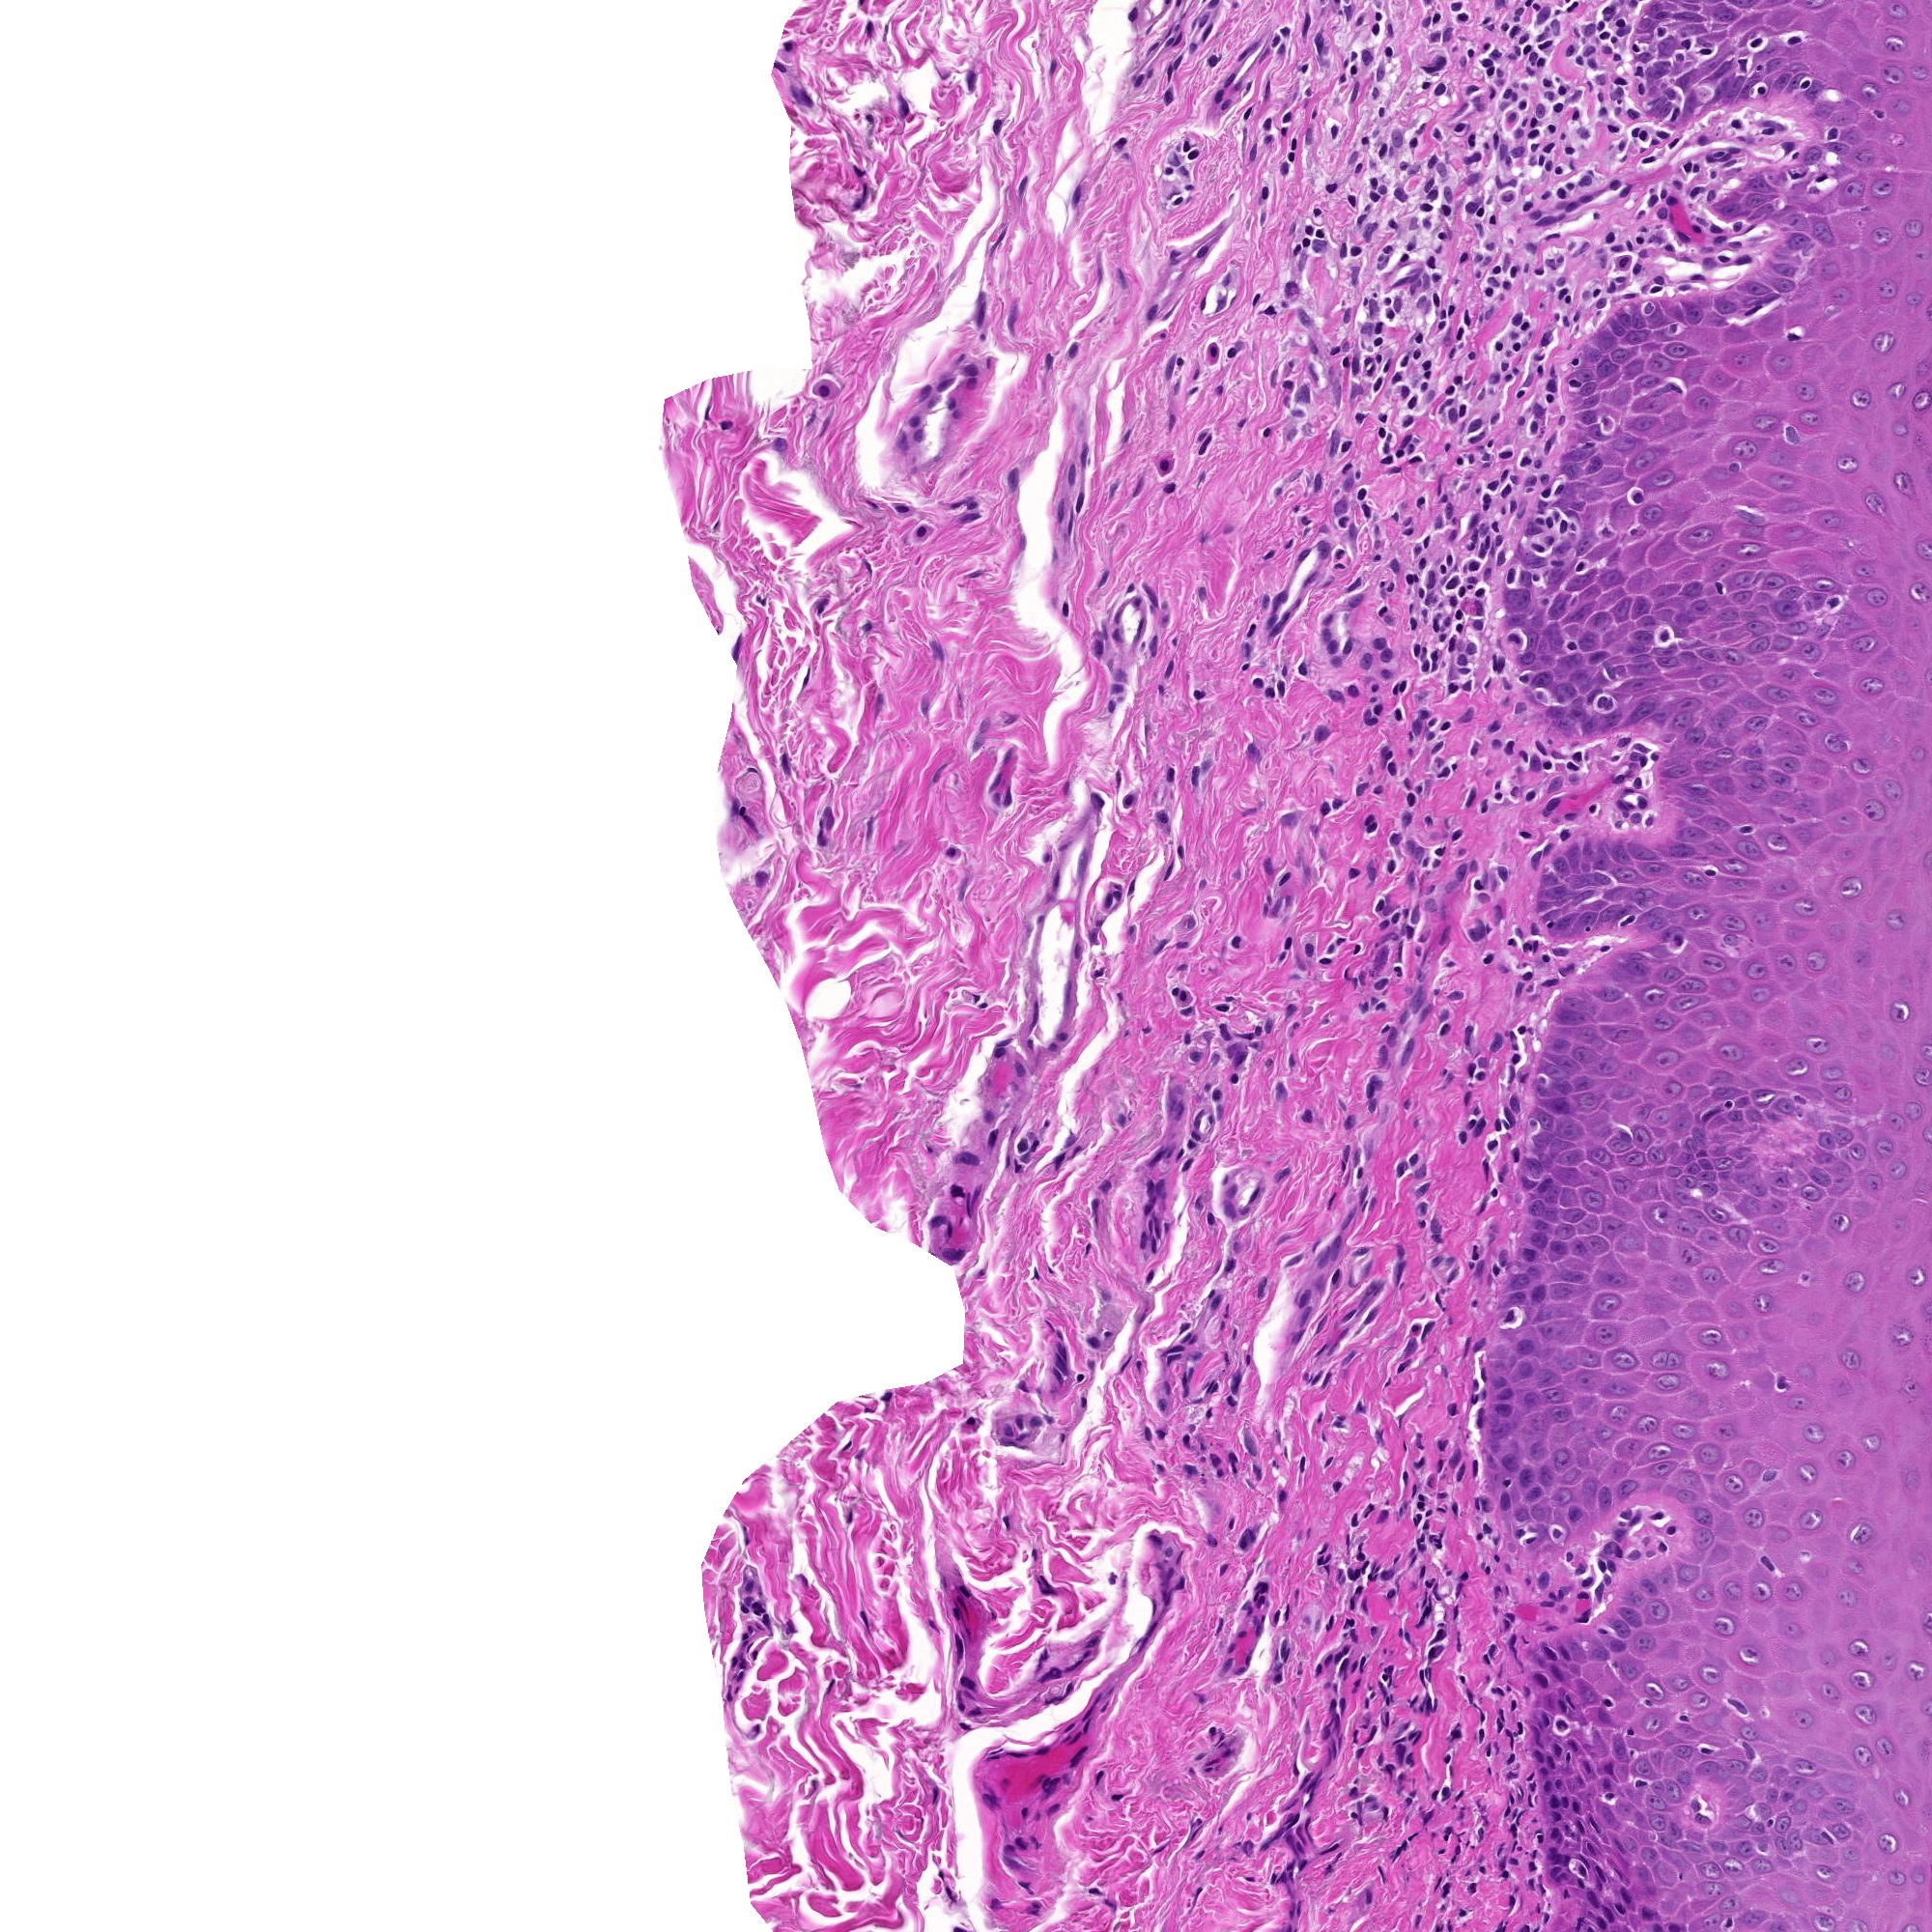epithelial: (863, 685, 895, 717), (920, 759, 952, 791), (1274, 271, 1306, 303), (1067, 846, 1099, 878), (1161, 1090, 1192, 1122), (1053, 978, 1085, 1010), (1276, 1805, 1307, 1836), (1782, 225, 1813, 257), (1560, 366, 1592, 398), (1819, 127, 1851, 159), (1727, 73, 1759, 104), (1652, 80, 1684, 111), (1660, 97, 1691, 129), (1591, 324, 1622, 356), (1656, 372, 1688, 403), (1780, 214, 1812, 246), (1619, 320, 1651, 352), (1736, 281, 1767, 313), (1734, 65, 1766, 97), (1757, 48, 1789, 80), (1852, 80, 1884, 111), (1741, 57, 1773, 88), (1709, 50, 1741, 81), (1741, 37, 1773, 69), (1624, 591, 1656, 623), (1555, 644, 1587, 676), (1539, 697, 1571, 729), (1560, 697, 1592, 729), (1566, 564, 1598, 596), (1821, 725, 1852, 757), (1651, 637, 1683, 669), (1684, 591, 1716, 623), (1571, 904, 1603, 936), (1672, 688, 1704, 720), (1568, 529, 1599, 561), (1631, 692, 1663, 724), (1847, 747, 1879, 778), (1762, 678, 1794, 709), (1739, 768, 1771, 800), (1545, 533, 1576, 564), (1647, 533, 1679, 564), (1545, 702, 1576, 734), (1803, 579, 1835, 610), (1582, 863, 1614, 895), (1856, 796, 1888, 828), (1767, 870, 1799, 902), (1619, 669, 1651, 701), (1541, 860, 1573, 892), (1541, 575, 1573, 607), (1614, 591, 1645, 623), (1568, 701, 1599, 732), (1714, 916, 1746, 948), (1522, 1223, 1553, 1254), (1502, 1281, 1534, 1313), (1490, 1378, 1522, 1410), (1559, 1200, 1591, 1231), (1557, 1141, 1589, 1173), (1702, 1200, 1734, 1231), (1525, 1212, 1557, 1244), (1693, 1171, 1725, 1203), (1530, 1315, 1562, 1346), (1725, 1139, 1757, 1171), (1537, 1380, 1569, 1412), (1652, 959, 1684, 991), (1509, 1261, 1541, 1293), (1541, 1842, 1573, 1874), (1509, 1461, 1541, 1493), (1610, 1881, 1642, 1913), (1493, 1445, 1525, 1477), (1537, 1638, 1569, 1670), (1592, 1752, 1624, 1783), (1541, 1859, 1573, 1891), (1566, 1859, 1598, 1891), (1539, 1812, 1571, 1844), (1601, 1629, 1633, 1661), (1523, 1821, 1555, 1852), (1633, 1569, 1665, 1601), (1541, 1776, 1573, 1808), (1522, 1718, 1553, 1750), (1548, 1854, 1580, 1886), (1569, 1675, 1601, 1707), (1571, 1752, 1603, 1783), (1514, 1769, 1546, 1801), (1545, 1444, 1576, 1476), (1548, 1867, 1580, 1898), (1555, 1849, 1587, 1881), (1534, 1780, 1566, 1812), (1824, 1815, 1856, 1847), (1587, 1628, 1619, 1660), (1667, 1762, 1698, 1794), (1536, 1727, 1568, 1759), (1734, 1730, 1766, 1762), (1844, 1635, 1875, 1667), (1541, 545, 1571, 579), (1536, 1847, 1566, 1881), (1525, 1844, 1559, 1874), (763, 428, 794, 458), (886, 426, 918, 456), (929, 366, 959, 398), (835, 242, 865, 274), (731, 1520, 761, 1552), (1288, 379, 1318, 410), (996, 303, 1026, 334), (1106, 262, 1138, 292), (1366, 941, 1398, 971), (1421, 1215, 1451, 1247), (1288, 1283, 1318, 1315), (975, 1783, 1007, 1813), (1279, 1895, 1309, 1927), (1352, 1881, 1384, 1911), (1675, 297, 1707, 327), (1642, 57, 1674, 87), (1668, 67, 1700, 97), (1794, 73, 1826, 103), (1709, 290, 1739, 322), (1739, 290, 1771, 320), (1557, 442, 1587, 474), (1709, 74, 1739, 106), (1798, 140, 1828, 172), (1686, 386, 1718, 416), (1769, 255, 1799, 287), (1752, 281, 1782, 313), (1640, 301, 1672, 331), (1783, 67, 1813, 99), (1776, 418, 1808, 448), (1668, 0, 1698, 32), (1626, 409, 1658, 439), (1847, 382, 1879, 412), (1720, 67, 1750, 99), (1833, 175, 1865, 205), (1621, 306, 1651, 338), (1718, 449, 1748, 481), (1606, 340, 1637, 372), (1571, 435, 1603, 465), (1874, 58, 1905, 88), (1720, 318, 1752, 349), (1575, 391, 1605, 423), (1704, 364, 1736, 395), (1661, 922, 1693, 952), (1589, 686, 1619, 718), (1520, 545, 1550, 577), (1665, 835, 1697, 865), (1573, 708, 1603, 740), (1635, 501, 1667, 531), (1541, 559, 1571, 591), (1571, 625, 1601, 656), (1626, 621, 1658, 651), (1603, 897, 1635, 927), (1511, 642, 1541, 674), (1596, 702, 1626, 734), (1545, 908, 1575, 939), (1511, 561, 1541, 593), (1736, 506, 1767, 536), (1468, 531, 1500, 561), (1741, 708, 1773, 738), (1769, 593, 1801, 623), (1706, 704, 1736, 736), (1693, 858, 1725, 888), (1543, 878, 1575, 908), (1681, 777, 1713, 807), (1603, 837, 1633, 869), (1762, 823, 1794, 853), (1739, 736, 1769, 768), (1773, 748, 1803, 780), (1794, 633, 1824, 665), (1695, 639, 1725, 671), (1766, 763, 1798, 793), (1536, 867, 1566, 899), (1585, 846, 1615, 878), (1704, 807, 1734, 839), (1651, 575, 1681, 607), (1550, 676, 1582, 706), (1559, 492, 1589, 524), (1737, 752, 1769, 782), (1707, 770, 1739, 800), (1790, 817, 1821, 849), (1619, 839, 1651, 869), (1681, 518, 1713, 548), (1605, 594, 1637, 625), (1713, 600, 1743, 632), (1635, 846, 1665, 878), (1598, 878, 1628, 909), (1789, 789, 1819, 821), (1640, 853, 1672, 883), (1727, 580, 1759, 610), (1683, 895, 1713, 927), (1633, 605, 1663, 637), (1626, 649, 1656, 681), (1716, 642, 1746, 674), (1541, 602, 1571, 633), (1706, 550, 1737, 580), (1592, 899, 1624, 929), (1672, 602, 1704, 632), (1522, 1277, 1553, 1307), (1514, 1237, 1545, 1269), (1545, 1090, 1575, 1122), (1695, 1099, 1725, 1131), (1520, 1148, 1550, 1180), (1488, 1392, 1518, 1424), (1543, 1231, 1573, 1263), (1504, 1267, 1534, 1299), (1592, 978, 1622, 1010), (1550, 996, 1580, 1028), (1882, 998, 1914, 1028), (1803, 1161, 1833, 1192), (1465, 1403, 1495, 1435), (1812, 1127, 1842, 1159), (1720, 1100, 1752, 1131), (1744, 1077, 1776, 1108), (1564, 1231, 1594, 1263), (1509, 1355, 1541, 1385), (1545, 1030, 1575, 1062), (1644, 1007, 1675, 1037), (1767, 1092, 1799, 1122), (1514, 1384, 1545, 1415), (1568, 1067, 1598, 1099), (1721, 1219, 1752, 1251), (1518, 1169, 1550, 1200), (1546, 1072, 1578, 1102), (1672, 1242, 1704, 1272), (1635, 982, 1665, 1014), (1530, 1362, 1562, 1392), (1522, 1192, 1553, 1223), (1529, 1104, 1560, 1134), (1483, 1417, 1514, 1447), (1527, 1125, 1557, 1157), (1674, 970, 1704, 1001), (1654, 1074, 1686, 1104), (1706, 1077, 1736, 1109), (1647, 1198, 1677, 1230), (1654, 1343, 1686, 1373), (1679, 1125, 1709, 1157), (1695, 1263, 1727, 1293), (1836, 1343, 1868, 1373), (1543, 1079, 1573, 1111), (1709, 1415, 1741, 1445), (1644, 1042, 1675, 1072), (1626, 1109, 1656, 1141), (1642, 1139, 1672, 1171), (1835, 1269, 1867, 1299), (1752, 1288, 1783, 1318), (1665, 1108, 1697, 1138), (1525, 1074, 1557, 1104), (1553, 1115, 1583, 1146), (1603, 1343, 1635, 1373), (1552, 1159, 1583, 1189), (1550, 1789, 1582, 1819), (1539, 1822, 1569, 1854), (1548, 1688, 1578, 1720), (1559, 1790, 1591, 1821), (1605, 1891, 1637, 1921), (1583, 1858, 1615, 1888), (1592, 1897, 1624, 1927), (1490, 1484, 1520, 1516), (1525, 1665, 1557, 1695), (1541, 1734, 1571, 1766), (1603, 1734, 1635, 1764), (1541, 1658, 1573, 1688), (1559, 1729, 1589, 1760), (1591, 1769, 1622, 1799), (1548, 1637, 1580, 1667), (1589, 1483, 1621, 1513), (1610, 1472, 1640, 1504), (1688, 1502, 1718, 1534), (1465, 1488, 1497, 1518), (1585, 1637, 1615, 1668), (1529, 1458, 1560, 1488), (1575, 1833, 1606, 1863), (1525, 1739, 1555, 1771), (1847, 1520, 1877, 1552), (1589, 1697, 1619, 1729), (1808, 1821, 1838, 1852), (1614, 1601, 1645, 1631), (1658, 1815, 1690, 1845), (1629, 1626, 1660, 1658), (1527, 1651, 1557, 1683), (1589, 1891, 1619, 1923), (1490, 1467, 1522, 1497), (1767, 1780, 1799, 1810), (1844, 1667, 1875, 1697), (1559, 1803, 1589, 1835), (1529, 1748, 1559, 1780), (1543, 1720, 1573, 1752), (1591, 1798, 1622, 1828), (1506, 1499, 1537, 1529), (1645, 1451, 1677, 1481), (1610, 1610, 1640, 1642), (1523, 1729, 1555, 1759), (1536, 1836, 1566, 1868), (1537, 1750, 1569, 1780), (1668, 1736, 1698, 1767), (1693, 1752, 1725, 1782), (1571, 1898, 1601, 1930), (1642, 1594, 1672, 1626), (1668, 1559, 1698, 1591), (1536, 1651, 1568, 1681), (1736, 1635, 1767, 1665), (1744, 1759, 1775, 1790), (1571, 1875, 1603, 1905), (939, 393, 970, 423), (922, 635, 952, 665), (855, 812, 885, 842), (909, 692, 939, 722), (853, 550, 883, 580), (816, 1670, 846, 1700), (1155, 405, 1185, 435), (1274, 803, 1304, 833), (1157, 1339, 1187, 1369), (1403, 985, 1433, 1016), (993, 1417, 1023, 1447), (1005, 1054, 1035, 1085), (1180, 1812, 1210, 1842), (1780, 25, 1810, 55), (1743, 170, 1773, 200), (1610, 306, 1640, 336), (1714, 195, 1744, 225), (1580, 448, 1610, 478), (1706, 57, 1736, 87), (1647, 92, 1677, 122), (1767, 65, 1798, 96), (1591, 352, 1621, 382), (1573, 402, 1603, 432), (1603, 311, 1633, 341), (1739, 272, 1769, 303), (1651, 32, 1681, 62), (1555, 455, 1585, 485), (1667, 334, 1697, 364), (1675, 87, 1706, 117), (1667, 299, 1697, 329), (1633, 12, 1663, 42), (1767, 269, 1798, 299), (1644, 2, 1674, 32), (1778, 322, 1808, 352), (1713, 0, 1743, 30), (1629, 41, 1660, 71), (1789, 375, 1819, 405), (1877, 32, 1907, 62), (1865, 218, 1895, 248), (1582, 416, 1612, 446), (1635, 366, 1665, 396), (1573, 373, 1603, 403), (1619, 352, 1649, 382), (1890, 464, 1920, 494), (1847, 142, 1877, 172), (1525, 665, 1555, 695), (1543, 591, 1573, 621), (1677, 575, 1707, 605), (1583, 603, 1614, 633), (1506, 582, 1536, 612), (1679, 722, 1709, 752), (1564, 598, 1594, 628), (1624, 699, 1654, 729), (1548, 849, 1578, 879), (1598, 563, 1628, 593), (1500, 605, 1530, 635), (1730, 814, 1760, 844), (1520, 511, 1550, 541), (1612, 902, 1642, 932), (1626, 881, 1656, 911), (1603, 494, 1633, 524), (1776, 577, 1806, 607), (1619, 943, 1649, 973), (1621, 633, 1651, 663), (1675, 817, 1706, 847), (1559, 837, 1589, 867), (1775, 658, 1805, 688), (1564, 660, 1594, 690), (1539, 623, 1569, 653), (1691, 750, 1721, 780), (1736, 835, 1766, 865), (1737, 609, 1767, 639), (1743, 630, 1773, 660), (1504, 564, 1534, 594), (1667, 607, 1697, 637), (1527, 499, 1557, 529), (1638, 902, 1668, 932), (1555, 908, 1585, 938), (1716, 908, 1746, 938), (1509, 1330, 1539, 1361), (1530, 1169, 1560, 1200), (1766, 1164, 1796, 1194), (1608, 1122, 1638, 1152), (1596, 1263, 1626, 1293), (1822, 1205, 1852, 1235), (1545, 1399, 1575, 1430), (1559, 1261, 1589, 1292), (1598, 1212, 1628, 1242), (1711, 1085, 1741, 1115), (1606, 1168, 1637, 1198), (1582, 1139, 1612, 1169), (1697, 1323, 1727, 1353), (1484, 1368, 1514, 1398), (1605, 1017, 1635, 1047), (1706, 1063, 1736, 1093), (1569, 1364, 1599, 1394), (1629, 1095, 1660, 1125), (1592, 1318, 1622, 1348), (1782, 1047, 1812, 1077), (1619, 1122, 1649, 1152), (1674, 1017, 1704, 1047), (1578, 1182, 1608, 1212), (1548, 1276, 1578, 1306), (1598, 1373, 1628, 1403), (1557, 1003, 1587, 1033), (1760, 1191, 1790, 1221), (1576, 1882, 1606, 1913), (1559, 1499, 1589, 1529), (1520, 1477, 1550, 1507), (1631, 1898, 1661, 1928), (1534, 1771, 1564, 1801), (1541, 1796, 1571, 1826), (1534, 1743, 1564, 1773), (1527, 1707, 1557, 1737), (1564, 1812, 1594, 1842), (1578, 1808, 1608, 1838), (1729, 1833, 1759, 1863), (1603, 1619, 1633, 1649), (1529, 1642, 1559, 1672), (1706, 1612, 1736, 1642), (1614, 1654, 1644, 1684), (1564, 1868, 1594, 1898), (1534, 1633, 1564, 1663), (1569, 1851, 1599, 1881), (1518, 1458, 1548, 1488), (1635, 1840, 1665, 1870), (1605, 1831, 1635, 1861), (1552, 1737, 1582, 1767), (1737, 1500, 1767, 1530), (1752, 1548, 1782, 1578), (1629, 1753, 1660, 1783), (1872, 1734, 1902, 1764), (1753, 1461, 1783, 1491), (1628, 1859, 1658, 1890), (1587, 1902, 1617, 1932), (1637, 1679, 1667, 1709), (1826, 1790, 1856, 1821), (1704, 1831, 1734, 1861), (1557, 1874, 1587, 1904), (747, 862, 775, 893), (1642, 349, 1674, 377), (1566, 538, 1594, 570), (1576, 835, 1605, 867), (1589, 1051, 1621, 1079), (1859, 1168, 1888, 1200), (1539, 1787, 1571, 1815), (1534, 1755, 1562, 1787), (1744, 1812, 1773, 1844), (1513, 1472, 1545, 1500), (1237, 736, 1267, 764), (1870, 170, 1898, 200), (1808, 216, 1836, 246), (1582, 642, 1612, 671), (1598, 656, 1626, 686), (1576, 681, 1605, 711), (1757, 568, 1787, 596), (1658, 757, 1688, 786)
fibroblast and endothelial: (1410, 646, 1442, 679), (1353, 702, 1387, 734), (1189, 1040, 1223, 1072), (1293, 1771, 1325, 1805), (1302, 1851, 1336, 1882), (1017, 1537, 1051, 1569), (763, 50, 794, 81), (855, 103, 886, 134), (837, 188, 869, 219), (768, 41, 800, 73), (918, 373, 950, 405), (906, 517, 938, 548), (939, 488, 971, 520), (936, 835, 968, 867), (920, 1205, 952, 1237), (729, 1621, 761, 1652), (833, 1500, 865, 1532), (736, 1612, 768, 1644), (1300, 216, 1332, 248), (1231, 97, 1263, 129), (1269, 150, 1300, 182), (1290, 7, 1322, 39), (1267, 18, 1299, 50), (1189, 426, 1221, 458), (1392, 426, 1424, 458), (1263, 27, 1295, 58), (1276, 140, 1307, 172), (1389, 343, 1421, 375), (1384, 177, 1415, 209), (1392, 405, 1424, 437), (1421, 48, 1453, 80), (1419, 19, 1451, 51), (1373, 14, 1405, 46), (1007, 168, 1039, 200), (1168, 27, 1200, 58), (1201, 288, 1233, 320), (1037, 50, 1069, 81), (1346, 203, 1378, 235), (1364, 57, 1396, 88), (1253, 122, 1284, 154), (1419, 117, 1451, 149), (1187, 7, 1219, 39), (1237, 138, 1269, 170), (1184, 25, 1215, 57), (1054, 458, 1086, 490), (1410, 265, 1442, 297), (1353, 403, 1385, 435), (964, 285, 996, 317), (1237, 34, 1269, 65), (1203, 373, 1235, 405), (1339, 253, 1371, 285), (1338, 39, 1369, 71), (1394, 563, 1426, 594), (1355, 810, 1387, 842), (1286, 653, 1318, 685), (1258, 584, 1290, 616), (1384, 671, 1415, 702), (1338, 856, 1369, 888), (1339, 573, 1371, 605), (1380, 823, 1412, 855), (1306, 718, 1338, 750), (1318, 536, 1350, 568), (1111, 872, 1143, 904), (1164, 835, 1196, 867), (1152, 855, 1184, 886), (1346, 479, 1378, 511), (1415, 706, 1447, 738), (1401, 801, 1433, 833), (1231, 630, 1263, 662), (1138, 628, 1169, 660), (1380, 681, 1412, 713), (1325, 490, 1357, 522), (1373, 545, 1405, 577), (1401, 628, 1433, 660), (1387, 506, 1419, 538), (1293, 563, 1325, 594), (1371, 571, 1403, 603), (1311, 623, 1343, 655), (1357, 685, 1389, 717), (1403, 773, 1435, 805), (1141, 605, 1173, 637), (1346, 628, 1378, 660), (1000, 1150, 1031, 1182), (1208, 1016, 1240, 1047), (1169, 1364, 1201, 1396), (1353, 991, 1385, 1023), (1077, 1325, 1109, 1357), (1017, 1405, 1049, 1437), (1143, 1139, 1175, 1171), (975, 1109, 1007, 1141), (1152, 1138, 1184, 1169), (1198, 1283, 1230, 1315), (1046, 1339, 1077, 1371), (1306, 1362, 1338, 1394), (1132, 1191, 1164, 1223), (1169, 1311, 1201, 1343), (1116, 1348, 1148, 1380), (1384, 1253, 1415, 1284), (1221, 1039, 1253, 1070), (1247, 1012, 1279, 1044), (1171, 994, 1203, 1026), (1332, 1106, 1364, 1138), (1373, 1016, 1405, 1047), (1005, 1127, 1037, 1159), (1058, 1131, 1090, 1162), (1246, 1272, 1277, 1304), (1001, 1139, 1033, 1171), (1021, 1258, 1053, 1290), (1224, 1194, 1256, 1226), (1339, 962, 1371, 994), (1350, 1180, 1382, 1212), (1180, 1339, 1212, 1371), (1359, 1067, 1391, 1099), (1346, 1235, 1378, 1267), (1138, 1230, 1169, 1261), (1214, 1194, 1246, 1226), (1180, 1118, 1212, 1150), (1162, 1132, 1194, 1164), (1168, 1332, 1200, 1364), (1288, 1293, 1320, 1325), (1175, 1138, 1207, 1169), (1223, 1051, 1254, 1083), (1067, 1371, 1099, 1403), (1035, 1658, 1067, 1690), (1415, 1637, 1447, 1668), (1062, 1741, 1093, 1773), (1215, 1442, 1247, 1474), (1403, 1445, 1435, 1477), (1231, 1523, 1263, 1555), (1263, 1599, 1295, 1631), (1338, 1776, 1369, 1808), (1371, 1656, 1403, 1688), (1316, 1645, 1348, 1677), (1403, 1495, 1435, 1527), (1039, 1683, 1070, 1714), (1035, 1767, 1067, 1799), (1031, 1775, 1063, 1806), (1343, 1736, 1375, 1767), (1286, 1447, 1318, 1479), (1143, 1453, 1175, 1484), (1338, 1619, 1369, 1651), (1329, 1651, 1361, 1683), (1355, 1785, 1387, 1817), (978, 1739, 1010, 1771), (1339, 1790, 1371, 1822), (1127, 1624, 1159, 1656), (991, 1506, 1023, 1537), (1353, 1550, 1385, 1582), (1097, 1562, 1129, 1594), (1226, 1651, 1258, 1683), (1392, 1783, 1424, 1815), (1419, 1778, 1451, 1810), (1069, 1640, 1100, 1672), (1000, 1844, 1031, 1875), (1019, 1826, 1051, 1858), (1288, 1787, 1320, 1819), (1031, 1670, 1063, 1702), (1401, 1474, 1433, 1506), (1286, 1810, 1318, 1842), (1332, 1557, 1364, 1589), (1332, 1626, 1364, 1658), (1366, 1744, 1398, 1776), (1311, 1716, 1343, 1748), (1277, 1851, 1309, 1882), (1224, 1635, 1256, 1667), (1152, 1552, 1184, 1583), (1380, 1495, 1412, 1527), (1399, 1463, 1431, 1495), (1316, 1736, 1348, 1767), (1518, 106, 1550, 138), (1476, 44, 1507, 76), (1654, 184, 1686, 216), (1633, 143, 1665, 175), (1495, 14, 1527, 46), (1587, 14, 1619, 46), (1667, 221, 1698, 253), (1674, 150, 1706, 182), (1555, 189, 1587, 221), (1527, 34, 1559, 65), (1594, 223, 1626, 255), (1442, 396, 1474, 428), (1654, 124, 1686, 156), (1605, 9, 1637, 41), (1527, 23, 1559, 55), (1647, 198, 1679, 230), (1686, 212, 1718, 244), (1596, 39, 1628, 71), (1601, 232, 1633, 264), (1530, 149, 1562, 180), (1541, 133, 1573, 165), (1479, 124, 1511, 156), (1713, 138, 1744, 170), (1456, 166, 1488, 198), (1493, 78, 1525, 110), (1537, 78, 1569, 110), (1598, 166, 1629, 198), (1603, 74, 1635, 106), (1537, 246, 1569, 278), (1454, 442, 1486, 474), (1477, 464, 1509, 495), (1477, 442, 1509, 474), (1555, 170, 1587, 202), (1780, 159, 1812, 191), (1557, 303, 1589, 334), (1610, 258, 1642, 290), (1633, 119, 1665, 150), (1548, 157, 1580, 189), (1472, 297, 1504, 329), (1580, 58, 1612, 90), (1472, 165, 1504, 196), (1695, 145, 1727, 177), (1536, 789, 1568, 821), (1454, 782, 1486, 814), (1437, 584, 1468, 616), (1560, 741, 1592, 773), (1621, 768, 1652, 800), (1518, 747, 1550, 778), (1447, 853, 1479, 885), (1626, 786, 1658, 817), (1514, 780, 1546, 812), (1463, 593, 1495, 625), (1463, 916, 1495, 948), (1539, 775, 1571, 807), (1437, 568, 1468, 600), (1437, 628, 1468, 660), (1461, 520, 1493, 552), (1456, 529, 1488, 561), (1465, 667, 1497, 699), (1619, 752, 1651, 784), (1456, 849, 1488, 881), (1624, 777, 1656, 809), (1463, 541, 1495, 573), (1445, 1120, 1477, 1152), (1453, 1016, 1484, 1047), (1461, 1056, 1493, 1088), (1451, 1081, 1483, 1113), (1766, 1368, 1798, 1399), (1461, 1329, 1493, 1361), (1493, 1093, 1525, 1125), (1502, 1054, 1534, 1086), (1454, 1067, 1486, 1099), (1440, 1718, 1472, 1750), (1568, 1601, 1599, 1633), (1488, 1856, 1520, 1888), (1495, 1626, 1527, 1658), (1497, 1844, 1529, 1875), (1601, 1536, 1633, 1568), (1474, 1734, 1506, 1766), (1603, 1523, 1635, 1555), (1465, 1852, 1497, 1884), (1493, 1603, 1525, 1635), (1518, 1870, 1550, 1902), (1449, 1447, 1481, 1479), (1610, 1509, 1642, 1541), (1484, 1633, 1516, 1665), (1598, 1548, 1629, 1580), (771, 1612, 805, 1642), (1125, 62, 1155, 96), (1154, 62, 1184, 96), (1371, 428, 1401, 462), (1339, 356, 1369, 389), (1364, 855, 1398, 885), (1410, 713, 1440, 747), (1364, 968, 1398, 998), (1343, 1392, 1376, 1422), (1330, 1233, 1364, 1263), (1343, 1649, 1376, 1679), (1536, 359, 1566, 393), (1493, 777, 1527, 807), (1479, 1028, 1513, 1058), (855, 12, 885, 44), (888, 94, 920, 124), (844, 156, 874, 188), (789, 81, 819, 113), (773, 30, 803, 62), (809, 373, 839, 405), (901, 409, 931, 441), (909, 375, 941, 405), (800, 405, 832, 435), (724, 794, 754, 826), (886, 492, 916, 524), (734, 805, 764, 837), (720, 633, 752, 663), (807, 823, 837, 855), (791, 663, 821, 695), (812, 801, 844, 832), (858, 490, 888, 522), (747, 584, 777, 616), (807, 810, 839, 840), (931, 1210, 962, 1240), (870, 1382, 902, 1412), (939, 1238, 971, 1269), (938, 1223, 968, 1254), (743, 1594, 775, 1624), (752, 1603, 782, 1635), (722, 1645, 752, 1677), (731, 1591, 763, 1621), (731, 1580, 761, 1612), (722, 1661, 754, 1691), (713, 1681, 745, 1711), (741, 1714, 771, 1746), (925, 1859, 957, 1890), (916, 1608, 947, 1640), (789, 1564, 819, 1596), (844, 1440, 876, 1470), (1212, 336, 1244, 366), (1352, 350, 1382, 382), (1332, 349, 1364, 379), (1173, 133, 1203, 165), (1410, 352, 1442, 382), (1203, 81, 1235, 111), (1293, 228, 1325, 258), (1376, 442, 1408, 472), (1198, 338, 1230, 368), (982, 110, 1012, 142), (1361, 311, 1392, 341), (1362, 368, 1392, 400), (1293, 214, 1325, 244), (1417, 179, 1447, 211), (1401, 444, 1433, 474), (1161, 347, 1192, 377), (1304, 28, 1336, 58), (1419, 2, 1449, 34), (1419, 73, 1451, 103), (1196, 46, 1228, 76), (1152, 81, 1184, 111), (1398, 386, 1428, 418), (1373, 35, 1403, 67), (1191, 16, 1221, 48), (1389, 444, 1421, 474), (1403, 320, 1433, 352), (1284, 232, 1315, 264), (1148, 449, 1180, 479), (1417, 255, 1447, 287), (1350, 42, 1382, 73), (1322, 235, 1353, 265), (1249, 177, 1279, 209), (1394, 437, 1426, 467), (1392, 379, 1422, 410), (1329, 430, 1361, 460), (1318, 115, 1348, 147), (1316, 172, 1346, 203), (1253, 416, 1283, 448), (1369, 175, 1401, 205), (1343, 402, 1375, 432), (1185, 237, 1217, 267), (1159, 25, 1189, 57), (1362, 345, 1394, 375), (1056, 334, 1088, 364), (964, 297, 994, 329), (1302, 202, 1332, 234), (1272, 370, 1304, 400), (1368, 134, 1399, 165), (1155, 152, 1185, 184), (1336, 184, 1368, 214), (1062, 180, 1092, 212), (1230, 37, 1260, 69), (1419, 143, 1449, 175), (1359, 288, 1389, 320), (1320, 334, 1350, 366), (1178, 30, 1208, 62), (1414, 170, 1444, 202), (1159, 241, 1191, 271), (1210, 271, 1240, 303), (1210, 88, 1240, 120), (1288, 51, 1318, 83), (1415, 156, 1447, 186), (1189, 288, 1221, 318), (1302, 464, 1332, 495), (1387, 124, 1417, 156), (996, 462, 1028, 492), (1293, 18, 1325, 48), (1069, 439, 1099, 471), (1339, 76, 1369, 108), (1339, 65, 1369, 97), (1403, 375, 1435, 405), (1391, 150, 1421, 182), (1279, 12, 1311, 42), (1357, 27, 1387, 58), (1154, 352, 1185, 382), (1251, 74, 1283, 104), (1159, 145, 1191, 175), (1330, 301, 1362, 331), (1284, 126, 1316, 156), (1408, 113, 1440, 143), (1223, 71, 1254, 101), (959, 64, 989, 96), (1405, 345, 1437, 375), (984, 223, 1014, 255), (1299, 331, 1329, 363), (1138, 32, 1169, 62), (1260, 676, 1292, 706), (1316, 791, 1348, 821), (1154, 759, 1185, 789), (1419, 642, 1449, 674), (1242, 667, 1274, 697), (1099, 879, 1129, 911), (1235, 614, 1267, 644), (1327, 630, 1359, 660), (1336, 676, 1368, 706), (1376, 699, 1408, 729), (1364, 626, 1394, 658), (1274, 927, 1304, 959), (1049, 593, 1079, 625), (1184, 678, 1214, 709), (1063, 487, 1095, 517), (1366, 888, 1396, 920), (1396, 782, 1426, 814), (1408, 699, 1438, 731), (1180, 759, 1212, 789), (1269, 863, 1300, 893), (1368, 596, 1399, 626), (1405, 485, 1435, 517), (1256, 602, 1286, 633), (1392, 801, 1422, 833), (1398, 609, 1430, 639), (1415, 563, 1447, 593), (991, 782, 1021, 814), (1148, 801, 1178, 833), (1154, 929, 1184, 961), (1412, 607, 1444, 637), (1389, 911, 1421, 941), (1309, 533, 1339, 564), (1382, 550, 1412, 582), (1369, 658, 1401, 688), (1378, 902, 1410, 932), (1136, 582, 1168, 612), (1348, 644, 1380, 674), (1322, 927, 1352, 959), (1391, 699, 1422, 729), (1345, 773, 1376, 803), (1361, 644, 1392, 674), (1253, 540, 1284, 570), (1040, 865, 1072, 895), (1339, 586, 1371, 616), (1421, 609, 1453, 639), (1100, 619, 1132, 649), (1085, 633, 1115, 665), (1421, 729, 1451, 761), (1313, 603, 1343, 635), (1097, 690, 1127, 722), (1412, 579, 1442, 610), (1046, 495, 1076, 527), (1125, 610, 1157, 640), (1154, 653, 1184, 685), (1269, 936, 1299, 968), (1185, 577, 1217, 607), (1359, 775, 1391, 805), (1267, 580, 1297, 612), (1334, 511, 1364, 543), (1102, 669, 1132, 701), (1230, 651, 1261, 681), (1102, 763, 1132, 794), (1359, 672, 1391, 702), (1269, 655, 1299, 686), (1100, 607, 1132, 637), (1166, 929, 1196, 961), (1320, 646, 1352, 676), (1405, 538, 1435, 570), (1270, 876, 1300, 908), (1394, 770, 1424, 801), (1143, 931, 1175, 961), (959, 497, 989, 529), (1115, 573, 1146, 603), (1277, 529, 1307, 561), (1116, 915, 1146, 947), (993, 741, 1024, 771), (1175, 906, 1205, 938), (1053, 508, 1083, 540), (1014, 1131, 1046, 1161), (1168, 982, 1200, 1012), (1355, 1076, 1387, 1106), (1221, 1366, 1251, 1398), (1219, 1063, 1251, 1093), (1320, 1261, 1350, 1293), (1171, 1148, 1201, 1180), (1235, 1021, 1267, 1051), (1208, 996, 1238, 1028), (1212, 1249, 1244, 1279), (1194, 1203, 1224, 1235), (973, 1100, 1005, 1131), (1267, 1159, 1299, 1189), (1355, 1300, 1387, 1330), (1398, 1145, 1430, 1175), (1240, 1178, 1270, 1210), (1065, 1361, 1095, 1392), (1138, 1171, 1168, 1203), (1180, 1040, 1210, 1072), (1090, 1171, 1122, 1201), (984, 1035, 1016, 1065), (962, 984, 993, 1016), (1177, 1127, 1207, 1159), (1079, 1189, 1109, 1221), (1274, 994, 1306, 1024), (1385, 1242, 1415, 1274), (1069, 1387, 1099, 1419), (1184, 1102, 1215, 1132), (1173, 1322, 1203, 1353), (1131, 1224, 1161, 1256), (1042, 1026, 1074, 1056), (1106, 1104, 1138, 1134), (1359, 1274, 1389, 1306), (1200, 1100, 1230, 1132), (1132, 1419, 1162, 1451), (1394, 1030, 1424, 1062), (1265, 1074, 1295, 1106), (959, 1405, 989, 1437), (1146, 1389, 1178, 1419), (1145, 1212, 1177, 1242), (1283, 1320, 1313, 1352), (1007, 1371, 1039, 1401), (1405, 1157, 1435, 1189), (1357, 1286, 1387, 1318), (1215, 1175, 1247, 1205), (1007, 1419, 1037, 1451), (1028, 1403, 1060, 1433), (1334, 1299, 1364, 1330), (1019, 998, 1051, 1028), (1054, 1138, 1085, 1169), (1171, 1352, 1201, 1384), (1083, 959, 1115, 989), (1139, 1150, 1169, 1182), (1215, 1184, 1246, 1215), (1332, 1139, 1362, 1171), (1077, 1338, 1108, 1369), (1150, 1373, 1182, 1403), (1276, 1046, 1307, 1076), (1316, 1184, 1346, 1215), (1157, 1146, 1189, 1177), (1279, 1244, 1309, 1276), (1208, 1371, 1240, 1401), (1184, 1185, 1214, 1217), (1396, 1318, 1426, 1350), (1306, 1307, 1336, 1339), (1364, 1419, 1394, 1451), (1092, 1320, 1123, 1350), (1171, 1007, 1201, 1039), (1233, 1341, 1263, 1373), (1138, 1217, 1169, 1247), (1309, 1265, 1341, 1295), (1412, 1596, 1442, 1628), (1028, 1569, 1060, 1599), (1327, 1642, 1357, 1674), (1405, 1486, 1435, 1518), (1373, 1753, 1405, 1783), (1346, 1541, 1376, 1573), (1007, 1828, 1037, 1859), (1343, 1573, 1373, 1605), (1315, 1608, 1346, 1638), (1332, 1606, 1364, 1637), (1085, 1760, 1115, 1792), (1403, 1530, 1435, 1560), (1100, 1782, 1131, 1813), (1201, 1445, 1231, 1477), (1421, 1525, 1451, 1557), (1030, 1649, 1062, 1679), (1407, 1504, 1437, 1536), (1261, 1863, 1293, 1893), (1164, 1569, 1196, 1599), (1028, 1736, 1058, 1767), (1267, 1479, 1297, 1511), (1001, 1739, 1033, 1769), (1338, 1506, 1369, 1536), (1037, 1792, 1067, 1824), (1408, 1658, 1440, 1688), (1198, 1716, 1230, 1746), (1077, 1875, 1109, 1905), (1355, 1495, 1387, 1525), (1261, 1661, 1293, 1691), (1269, 1637, 1299, 1668), (1286, 1847, 1316, 1879), (1315, 1835, 1346, 1865), (1077, 1624, 1108, 1656), (1371, 1683, 1401, 1714), (1389, 1461, 1421, 1491), (1322, 1688, 1352, 1720), (1309, 1649, 1339, 1681), (1242, 1583, 1272, 1615), (1017, 1893, 1049, 1923), (1251, 1829, 1283, 1859), (1141, 1525, 1173, 1555), (1357, 1716, 1387, 1748), (1054, 1672, 1085, 1704), (1008, 1870, 1040, 1900), (1371, 1559, 1401, 1591), (1313, 1852, 1343, 1884), (1415, 1568, 1445, 1599), (1408, 1557, 1440, 1587), (1368, 1499, 1398, 1530), (1403, 1520, 1433, 1552), (1263, 1821, 1295, 1851), (1062, 1649, 1093, 1679), (1350, 1562, 1380, 1594), (1207, 1553, 1238, 1583), (1391, 1828, 1422, 1858), (1391, 1619, 1421, 1651), (996, 1831, 1026, 1863), (1194, 1750, 1224, 1782), (1067, 1716, 1099, 1746), (1369, 1706, 1401, 1736), (1320, 1656, 1352, 1686), (1279, 1829, 1309, 1861), (1350, 1589, 1380, 1621), (1240, 1829, 1272, 1859), (1210, 1736, 1242, 1766), (1313, 1445, 1343, 1477), (1154, 1564, 1185, 1594), (1237, 1592, 1267, 1624), (1410, 1670, 1440, 1702), (1253, 1865, 1284, 1895), (1350, 1612, 1382, 1642), (1054, 1713, 1085, 1744), (1196, 1525, 1226, 1557), (1362, 1790, 1394, 1821), (1391, 1495, 1422, 1525), (1039, 1782, 1069, 1813), (1215, 1507, 1246, 1539), (1394, 1714, 1426, 1744), (1046, 1654, 1077, 1684), (1272, 1596, 1304, 1626), (1162, 1539, 1192, 1571), (1251, 1605, 1283, 1635), (1384, 1750, 1415, 1780), (1417, 1495, 1449, 1525), (1185, 1683, 1215, 1714), (1184, 1875, 1214, 1907), (1359, 1615, 1391, 1645), (1028, 1640, 1058, 1672), (1290, 1762, 1322, 1792), (1056, 1734, 1086, 1766), (1412, 1468, 1442, 1500), (1311, 1842, 1341, 1874), (1421, 1629, 1451, 1661), (1035, 1575, 1065, 1606), (1392, 1686, 1422, 1718), (1205, 1721, 1237, 1752), (1536, 375, 1568, 405), (1679, 175, 1709, 207), (1458, 142, 1490, 172), (1624, 117, 1654, 149), (1548, 175, 1578, 207), (1598, 111, 1628, 143), (1506, 308, 1536, 340), (1484, 253, 1514, 285), (1456, 124, 1488, 154), (1451, 303, 1483, 333), (1445, 313, 1477, 343), (1442, 364, 1474, 395), (1608, 246, 1638, 278), (1520, 44, 1552, 74), (1704, 218, 1734, 249), (1644, 120, 1675, 150), (1637, 184, 1668, 214), (1773, 131, 1803, 163), (1490, 458, 1520, 490), (1444, 111, 1474, 143), (1617, 99, 1649, 129), (1582, 280, 1612, 311), (1474, 274, 1504, 306), (1559, 37, 1589, 69), (1548, 280, 1580, 310), (1451, 119, 1481, 150), (1447, 2, 1477, 34), (1458, 410, 1490, 441), (1507, 25, 1539, 55), (1677, 214, 1707, 246), (1575, 42, 1605, 74), (1686, 124, 1718, 154), (1500, 83, 1532, 113), (1720, 228, 1752, 258), (1530, 322, 1560, 354), (1529, 462, 1559, 494), (1454, 400, 1484, 432), (1456, 189, 1488, 219), (1709, 225, 1739, 257), (1573, 14, 1603, 46), (1681, 262, 1713, 292), (1601, 267, 1633, 297), (1537, 219, 1569, 249), (1520, 133, 1550, 165), (1651, 232, 1683, 262), (1534, 428, 1564, 460), (1507, 253, 1539, 283), (1640, 269, 1672, 299), (1592, 19, 1622, 51), (1518, 464, 1550, 494), (1490, 166, 1522, 196), (1578, 35, 1610, 65), (1651, 177, 1681, 209), (1470, 30, 1500, 62), (1711, 212, 1741, 244), (1470, 50, 1500, 81), (1566, 173, 1598, 203), (1606, 129, 1637, 161), (1476, 249, 1506, 281), (1527, 334, 1557, 366), (1569, 97, 1601, 127), (1504, 35, 1534, 67), (1697, 209, 1727, 241), (1695, 246, 1727, 276), (1674, 267, 1706, 297), (1580, 25, 1612, 55), (1520, 198, 1552, 228), (1470, 423, 1500, 455), (1516, 230, 1546, 262), (1479, 402, 1509, 433), (1486, 65, 1516, 97), (1546, 34, 1576, 65), (1442, 384, 1472, 416), (1477, 269, 1509, 299), (1522, 327, 1553, 357), (1474, 62, 1504, 94), (1559, 80, 1591, 110), (1518, 19, 1550, 50), (1537, 12, 1569, 42), (1463, 303, 1495, 333), (1514, 931, 1546, 961), (1445, 575, 1477, 605), (1456, 568, 1486, 600), (1463, 577, 1493, 609), (1483, 648, 1513, 679), (1610, 791, 1640, 823), (1490, 731, 1522, 761), (1440, 819, 1472, 849), (1541, 938, 1573, 968), (1525, 732, 1557, 763), (1474, 941, 1504, 973), (1453, 632, 1483, 663), (1499, 490, 1529, 522), (1626, 743, 1656, 775), (1479, 709, 1509, 741), (1479, 510, 1509, 541), (1468, 791, 1499, 823), (1555, 800, 1585, 832), (1481, 524, 1511, 556), (1484, 543, 1516, 573), (1619, 791, 1651, 821), (1453, 699, 1483, 731), (1479, 722, 1511, 752), (1621, 801, 1651, 833), (1440, 621, 1472, 651), (1619, 731, 1649, 763), (1615, 761, 1645, 793), (1451, 561, 1481, 593), (1483, 895, 1514, 925), (1537, 747, 1569, 777), (1458, 863, 1488, 895), (1438, 518, 1468, 550), (1523, 784, 1555, 814), (1476, 1129, 1507, 1159), (1470, 1150, 1500, 1182), (1493, 1104, 1525, 1134), (1506, 1014, 1536, 1046), (1500, 1042, 1530, 1074), (1460, 1237, 1490, 1269), (1440, 978, 1470, 1010), (1486, 1159, 1516, 1191), (1479, 1118, 1511, 1148), (1437, 1394, 1468, 1424), (1507, 968, 1537, 1000), (1467, 1191, 1499, 1221), (1463, 1246, 1493, 1277), (1456, 1116, 1486, 1148), (1447, 1560, 1477, 1592), (1470, 1514, 1500, 1546), (1497, 1813, 1529, 1844), (1642, 1500, 1674, 1530), (1458, 1453, 1490, 1483), (1474, 1637, 1506, 1667), (1445, 1456, 1476, 1488), (1516, 1851, 1548, 1881), (1456, 1872, 1486, 1904), (1529, 1562, 1559, 1594), (1465, 1714, 1495, 1746), (1484, 1706, 1514, 1737), (1545, 1578, 1576, 1608), (1440, 1445, 1470, 1477), (1440, 1838, 1470, 1870), (1566, 1553, 1596, 1585), (1647, 1530, 1677, 1562), (1456, 1679, 1486, 1711), (1500, 1803, 1530, 1835), (1472, 1552, 1502, 1583), (1465, 1817, 1497, 1847), (1497, 1759, 1527, 1790), (1440, 1596, 1470, 1628), (1592, 1559, 1624, 1589), (1610, 1537, 1640, 1569), (1537, 1585, 1569, 1615), (1451, 1674, 1483, 1704), (1571, 1589, 1601, 1621), (1592, 1536, 1622, 1568), (1488, 1845, 1518, 1877), (1463, 1520, 1495, 1550), (846, 184, 876, 214), (849, 175, 879, 205), (902, 419, 932, 449), (692, 398, 722, 428), (780, 78, 810, 108), (770, 747, 800, 777), (805, 591, 835, 621), (853, 612, 883, 642), (939, 1175, 970, 1205), (929, 1238, 959, 1269), (732, 1569, 763, 1599), (936, 1879, 966, 1909), (941, 1596, 971, 1626), (741, 1638, 771, 1668), (943, 1583, 973, 1614), (849, 1603, 879, 1633), (920, 1778, 950, 1808), (732, 1633, 763, 1663), (931, 1870, 961, 1900), (800, 1769, 830, 1799), (1254, 295, 1284, 326), (1415, 55, 1445, 85), (1385, 435, 1415, 465), (1106, 127, 1136, 157), (1375, 295, 1405, 326), (1398, 127, 1428, 157), (1277, 131, 1307, 161), (1304, 228, 1334, 258), (1162, 184, 1192, 214), (1361, 180, 1391, 211), (1157, 51, 1187, 81), (1389, 244, 1419, 274), (1415, 246, 1445, 276), (1214, 65, 1244, 96), (1410, 364, 1440, 395), (1169, 156, 1200, 186), (1412, 207, 1442, 237), (1136, 297, 1166, 327), (1421, 283, 1451, 313), (1336, 455, 1366, 485), (1033, 345, 1063, 375), (1242, 283, 1272, 313), (1253, 110, 1283, 140), (1352, 214, 1382, 244), (1394, 265, 1424, 295), (1371, 237, 1401, 267), (1330, 340, 1361, 370), (1380, 455, 1410, 485), (1357, 359, 1387, 389), (1290, 303, 1320, 333), (1118, 0, 1148, 30), (959, 359, 989, 389), (1150, 28, 1180, 58), (1357, 304, 1387, 334), (1385, 267, 1415, 297), (1352, 313, 1382, 343), (1171, 165, 1201, 195), (1279, 120, 1309, 150), (1113, 786, 1143, 816), (1376, 752, 1407, 782), (1249, 614, 1279, 644), (1260, 612, 1290, 642), (1403, 708, 1433, 738), (1407, 637, 1437, 667), (1362, 694, 1392, 724), (1371, 740, 1401, 770), (1221, 927, 1251, 957), (1288, 540, 1318, 570), (1272, 602, 1302, 632), (1376, 851, 1407, 881), (1083, 786, 1113, 816), (1408, 529, 1438, 559), (1327, 506, 1357, 536), (1369, 637, 1399, 667), (1270, 591, 1300, 621), (1322, 679, 1352, 709), (1056, 490, 1086, 520), (1341, 932, 1371, 962), (1290, 504, 1320, 534), (982, 766, 1012, 796), (1350, 856, 1380, 886), (1396, 863, 1426, 893), (1422, 837, 1453, 867), (1031, 840, 1062, 870), (1401, 833, 1431, 863), (1077, 920, 1108, 950), (1062, 936, 1092, 966), (1253, 851, 1283, 881), (1384, 934, 1414, 964), (1088, 563, 1118, 593), (1258, 892, 1288, 922), (1146, 674, 1177, 704), (1123, 577, 1154, 607), (1044, 1145, 1074, 1175), (1392, 1154, 1422, 1184), (1412, 1315, 1442, 1345), (1401, 1313, 1431, 1343), (1196, 1371, 1226, 1401), (1201, 1079, 1231, 1109), (978, 1122, 1008, 1152), (1134, 1261, 1164, 1292), (1141, 1417, 1171, 1447), (1005, 1405, 1035, 1435), (1292, 1100, 1322, 1131), (1215, 1385, 1246, 1415), (1387, 1352, 1417, 1382), (1168, 1141, 1198, 1171), (1046, 1353, 1076, 1384), (1408, 1173, 1438, 1203), (1407, 1192, 1437, 1223), (1396, 1330, 1426, 1361), (1357, 1088, 1387, 1118), (1364, 991, 1394, 1021), (1343, 1157, 1373, 1187), (1161, 977, 1191, 1007), (1322, 1228, 1352, 1258), (1263, 1047, 1293, 1077), (1369, 1039, 1399, 1069), (1138, 1201, 1168, 1231), (1201, 1090, 1231, 1120), (1421, 1246, 1451, 1276), (1419, 1205, 1449, 1235), (1146, 1399, 1177, 1430), (1014, 1028, 1044, 1058), (1297, 1362, 1327, 1392), (1138, 1184, 1168, 1214), (1343, 1559, 1373, 1589), (1385, 1833, 1415, 1863), (1246, 1576, 1276, 1606), (1357, 1559, 1387, 1589), (1401, 1720, 1431, 1750), (1322, 1470, 1352, 1500), (1414, 1686, 1444, 1716), (1132, 1619, 1162, 1649), (1385, 1736, 1415, 1766), (1376, 1578, 1407, 1608), (1154, 1575, 1184, 1605), (1150, 1583, 1180, 1614), (1422, 1621, 1453, 1651), (1175, 1454, 1205, 1484), (1412, 1801, 1442, 1831), (1403, 1688, 1433, 1718), (1307, 1546, 1338, 1576), (961, 1697, 991, 1727), (1058, 1723, 1088, 1753), (1242, 1456, 1272, 1486), (1072, 1704, 1102, 1734), (1010, 1798, 1040, 1828), (1203, 1456, 1233, 1486), (1339, 1589, 1369, 1619), (1214, 1649, 1244, 1679), (1242, 1612, 1272, 1642), (1387, 1762, 1417, 1792), (1067, 1730, 1097, 1760), (1322, 1706, 1352, 1736), (1138, 1610, 1168, 1640), (1339, 1720, 1369, 1750), (1389, 1721, 1419, 1752), (980, 1888, 1010, 1918), (1233, 1644, 1263, 1674), (1279, 1753, 1309, 1783), (1341, 1668, 1371, 1698), (1231, 1831, 1261, 1861), (1047, 1665, 1077, 1695), (1095, 1888, 1125, 1918), (1304, 1447, 1334, 1477), (1046, 1766, 1076, 1796), (1325, 1562, 1355, 1592), (1398, 1541, 1428, 1571), (1341, 1801, 1371, 1831), (1307, 1536, 1338, 1566), (1284, 1801, 1315, 1831), (1419, 1580, 1449, 1610), (1605, 173, 1635, 203), (1729, 244, 1759, 274), (1518, 117, 1548, 147), (1569, 184, 1599, 214), (1530, 205, 1560, 235), (1514, 35, 1545, 65), (1605, 65, 1635, 96), (1755, 113, 1785, 143), (1569, 165, 1599, 195), (1499, 257, 1529, 287), (1704, 142, 1734, 172), (1541, 154, 1571, 184), (1612, 230, 1642, 260), (1458, 73, 1488, 103), (1490, 269, 1520, 299), (1658, 173, 1688, 203), (1534, 384, 1564, 414), (1472, 405, 1502, 435), (1591, 30, 1621, 60), (1477, 55, 1507, 85), (1438, 372, 1468, 402), (1493, 359, 1523, 389), (1523, 395, 1553, 425), (1525, 96, 1555, 126), (1484, 39, 1514, 69), (1437, 295, 1467, 326), (1442, 322, 1472, 352), (1522, 448, 1552, 478), (1661, 226, 1691, 257), (1585, 288, 1615, 318), (1527, 2, 1557, 32), (1626, 244, 1656, 274), (1638, 127, 1668, 157), (1463, 88, 1493, 119), (1465, 869, 1495, 899), (1529, 750, 1559, 780), (1488, 858, 1518, 888), (1605, 763, 1635, 793), (1461, 609, 1491, 639), (1458, 506, 1488, 536), (1447, 646, 1477, 676), (1557, 750, 1587, 780), (1511, 743, 1541, 773), (1610, 727, 1640, 757), (1522, 842, 1552, 872), (1438, 752, 1468, 782), (1529, 485, 1559, 515), (1477, 552, 1507, 582), (1468, 1109, 1499, 1139), (1536, 966, 1566, 996), (1460, 1106, 1490, 1136), (1500, 1139, 1530, 1169), (1499, 1088, 1529, 1118), (1497, 1023, 1527, 1053), (1589, 1550, 1619, 1580), (1502, 1716, 1532, 1746), (1483, 1675, 1513, 1706), (1617, 1504, 1647, 1534), (1497, 1886, 1527, 1916), (1491, 1718, 1522, 1748), (1495, 1796, 1525, 1826), (1467, 1702, 1497, 1732), (1444, 1780, 1474, 1810), (1723, 1690, 1753, 1720), (1582, 1557, 1612, 1587), (1484, 1575, 1514, 1605), (1497, 1783, 1527, 1813), (709, 410, 741, 439), (1368, 421, 1399, 449), (1412, 285, 1440, 317), (1350, 495, 1382, 524), (1293, 936, 1325, 964), (1251, 674, 1279, 706), (1392, 517, 1424, 545), (1398, 899, 1426, 931), (1325, 1405, 1353, 1437), (1394, 1744, 1426, 1773), (1369, 1798, 1401, 1826), (1272, 1858, 1300, 1890), (1495, 138, 1527, 166), (1472, 437, 1500, 469), (1463, 44, 1495, 73), (1438, 1493, 1470, 1522), (1495, 1744, 1527, 1773), (1587, 1566, 1619, 1594), (943, 1629, 973, 1658), (1316, 632, 1346, 660), (959, 488, 987, 518), (1408, 1603, 1437, 1633), (1463, 196, 1493, 225), (1472, 485, 1500, 515), (1461, 1095, 1490, 1125), (1583, 1576, 1614, 1605), (959, 1667, 985, 1698), (1598, 12, 1626, 41)
inflammatory: (1350, 182, 1382, 212), (1415, 1447, 1445, 1479)
lymphocyte: (1546, 73, 1578, 106), (1410, 191, 1442, 223), (1329, 60, 1361, 92), (1361, 4, 1392, 35), (1412, 554, 1444, 586), (1171, 1023, 1203, 1054), (1536, 111, 1568, 143), (1624, 73, 1656, 104), (1509, 444, 1541, 476), (1483, 329, 1514, 361), (1447, 241, 1479, 272), (1559, 345, 1591, 377), (1530, 179, 1562, 211), (1523, 352, 1555, 384), (1458, 421, 1490, 453), (1560, 99, 1592, 131), (1633, 223, 1665, 255), (1614, 280, 1645, 311), (1495, 925, 1527, 957), (1548, 817, 1580, 849), (1548, 510, 1580, 541), (1467, 554, 1499, 586), (1522, 531, 1553, 563), (1529, 941, 1560, 973), (1458, 1382, 1490, 1414), (1493, 1300, 1525, 1332), (1624, 1767, 1656, 1799), (1445, 1897, 1477, 1928), (1479, 1541, 1511, 1573), (1683, 1794, 1714, 1826), (1495, 1706, 1527, 1737), (1587, 1615, 1619, 1647), (1343, 5, 1376, 35), (1364, 96, 1398, 126), (1359, 14, 1391, 44), (1410, 69, 1440, 101), (1272, 101, 1302, 133), (1382, 405, 1414, 435), (1368, 403, 1399, 433), (1401, 338, 1431, 370), (1267, 115, 1299, 145), (1348, 124, 1380, 154), (1394, 234, 1424, 265), (1341, 150, 1373, 180), (1378, 209, 1408, 241), (1380, 287, 1410, 318), (1405, 244, 1437, 274), (1407, 547, 1437, 579), (1369, 908, 1401, 938), (1378, 840, 1408, 872), (1120, 586, 1152, 616), (1361, 540, 1392, 570), (1311, 931, 1343, 961), (1380, 501, 1412, 531), (1371, 582, 1401, 614), (1403, 603, 1435, 633), (1194, 1391, 1224, 1422), (1407, 1207, 1437, 1238), (1072, 1233, 1104, 1263), (1023, 1798, 1054, 1828), (1226, 1617, 1256, 1649), (1541, 90, 1571, 122), (1622, 253, 1652, 285), (1530, 134, 1562, 165), (1477, 203, 1507, 235), (1721, 211, 1752, 242), (1444, 444, 1474, 476), (1720, 108, 1752, 138), (1511, 191, 1543, 221), (1622, 225, 1654, 255), (1490, 439, 1522, 469), (1670, 28, 1702, 58), (1707, 244, 1739, 274), (1483, 361, 1513, 393), (1805, 163, 1836, 193), (1514, 409, 1546, 439), (1507, 88, 1537, 120), (1454, 37, 1486, 67), (1530, 67, 1562, 97), (1495, 101, 1527, 131), (1477, 78, 1507, 110), (1619, 32, 1651, 62), (1456, 340, 1486, 372), (1541, 101, 1571, 133), (1608, 113, 1640, 143), (1672, 127, 1704, 157), (1504, 117, 1534, 149), (1564, 44, 1594, 76), (1506, 377, 1536, 409), (1594, 271, 1624, 303), (1543, 166, 1573, 198), (1488, 350, 1518, 382), (1468, 209, 1500, 239), (1472, 448, 1502, 479), (1511, 368, 1541, 400), (1463, 242, 1495, 272), (1468, 4, 1499, 35), (1674, 165, 1706, 195), (1444, 598, 1474, 630), (1444, 612, 1476, 642), (1509, 819, 1541, 849), (1495, 559, 1525, 591), (1534, 524, 1566, 554), (1499, 623, 1530, 653), (1576, 793, 1608, 823), (1658, 616, 1690, 646), (1589, 932, 1621, 962), (1451, 665, 1483, 695), (1490, 550, 1520, 582), (1612, 775, 1644, 805), (1458, 734, 1490, 764), (1507, 663, 1539, 694), (1499, 734, 1530, 764), (1502, 916, 1532, 948), (1532, 833, 1562, 865), (1481, 1109, 1513, 1139), (1511, 961, 1543, 991), (1477, 1177, 1509, 1207), (1468, 1359, 1499, 1391), (1507, 1062, 1537, 1093), (1479, 1154, 1509, 1185), (1727, 1086, 1759, 1116), (1568, 1578, 1598, 1610), (1504, 1516, 1534, 1548), (1591, 1688, 1622, 1718), (1690, 1736, 1720, 1767), (1497, 1690, 1529, 1720), (1656, 1514, 1686, 1546), (1550, 1877, 1580, 1909), (1539, 1516, 1569, 1548), (1445, 1663, 1477, 1693), (1668, 1702, 1698, 1734), (1380, 361, 1410, 391), (1339, 235, 1369, 265), (1339, 53, 1369, 83), (1373, 352, 1403, 382), (1359, 168, 1389, 198), (1385, 370, 1415, 400), (1309, 943, 1339, 973), (1414, 805, 1444, 835), (1171, 1422, 1201, 1453), (1741, 27, 1771, 57), (1624, 57, 1654, 87), (1746, 76, 1776, 106), (1502, 96, 1532, 126), (1817, 119, 1847, 149), (1691, 35, 1721, 65), (1727, 48, 1757, 78), (1500, 331, 1530, 361), (1645, 16, 1675, 46), (1553, 134, 1583, 165), (1493, 180, 1523, 211), (1525, 257, 1555, 287), (1863, 99, 1893, 129), (1688, 179, 1718, 209), (1481, 11, 1511, 41), (1504, 131, 1534, 161), (1506, 405, 1536, 435), (1472, 16, 1502, 46), (1649, 621, 1679, 651), (1564, 550, 1594, 580), (1622, 481, 1652, 511), (1458, 550, 1488, 580), (1536, 508, 1566, 538), (1518, 915, 1548, 945), (1591, 517, 1621, 547), (1704, 571, 1734, 602), (1481, 1254, 1511, 1284), (1465, 1375, 1495, 1405), (1474, 1141, 1504, 1171), (1546, 1709, 1576, 1739), (1571, 1568, 1601, 1598), (1615, 1716, 1645, 1746), (1516, 1861, 1546, 1891), (1594, 1778, 1624, 1808), (1587, 96, 1619, 124), (1819, 586, 1847, 617), (1440, 671, 1468, 702), (1640, 740, 1668, 771), (1362, 327, 1392, 356), (1557, 632, 1587, 660), (1483, 778, 1513, 807), (1437, 709, 1465, 740)
